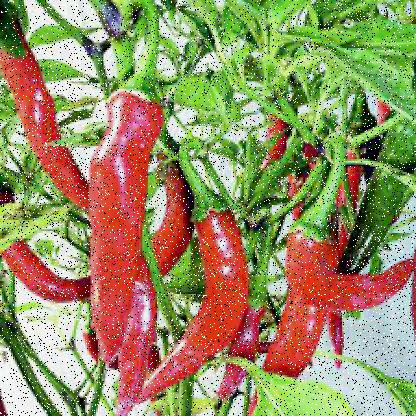chili: (86, 97, 167, 362), (0, 34, 91, 209), (178, 199, 252, 383)
